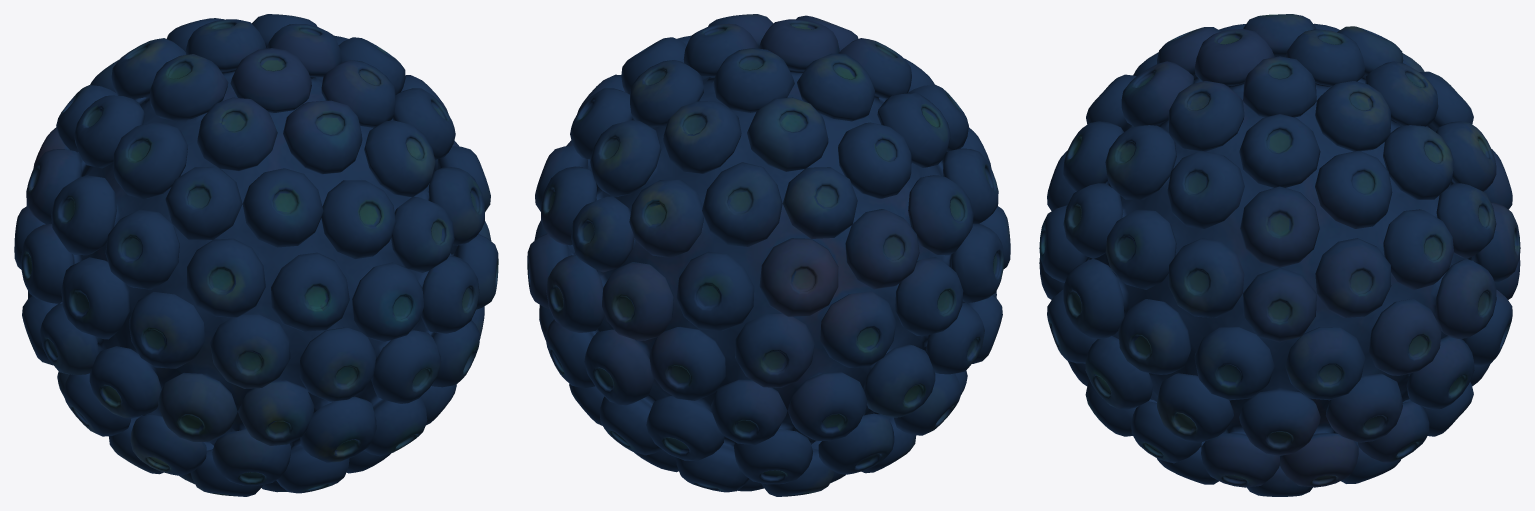
File: virus_4.obj
3 renders of one model, left to right at view 1: azimuth 30°, elevation 25°; view 2: azimuth 150°, elevation 25°; view 3: azimuth 270°, elevation 25°, orthographic.
Parts seen in each view (by area): view 1: virus_04; view 2: virus_04; view 3: virus_04.
Boxes of the visible parts, x1=… form: virus_04: x1=14, y1=14, x2=498, y2=496; virus_04: x1=527, y1=14, x2=1010, y2=496; virus_04: x1=1039, y1=14, x2=1520, y2=496.
Bounding box in the file's own units: 228 × 227 × 228.
Materials: 1 (1 with a texture image).
